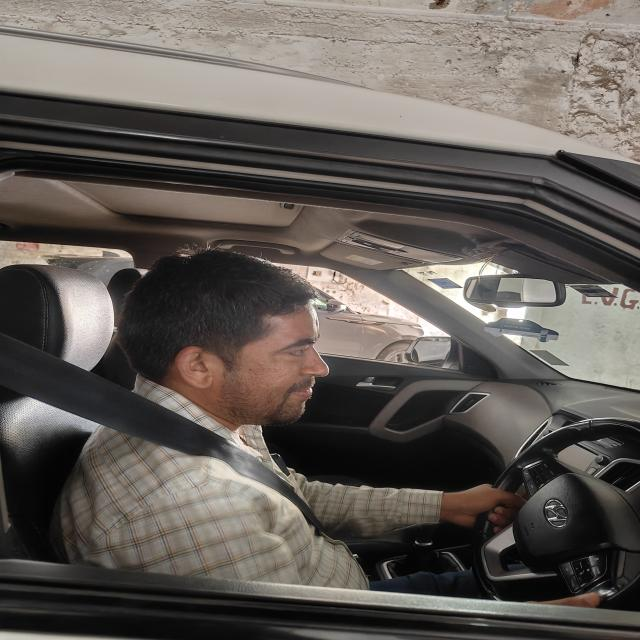seatbelt: (0, 300, 381, 594)
